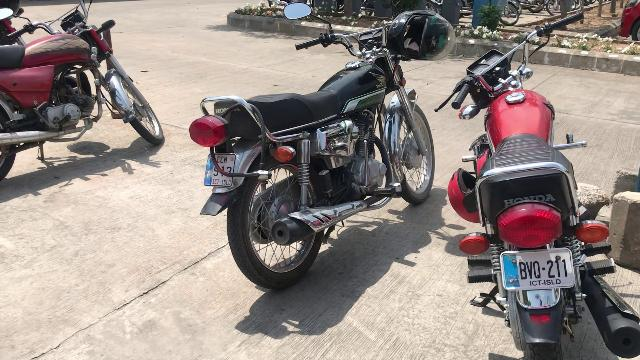plate: (501, 248, 575, 288)
